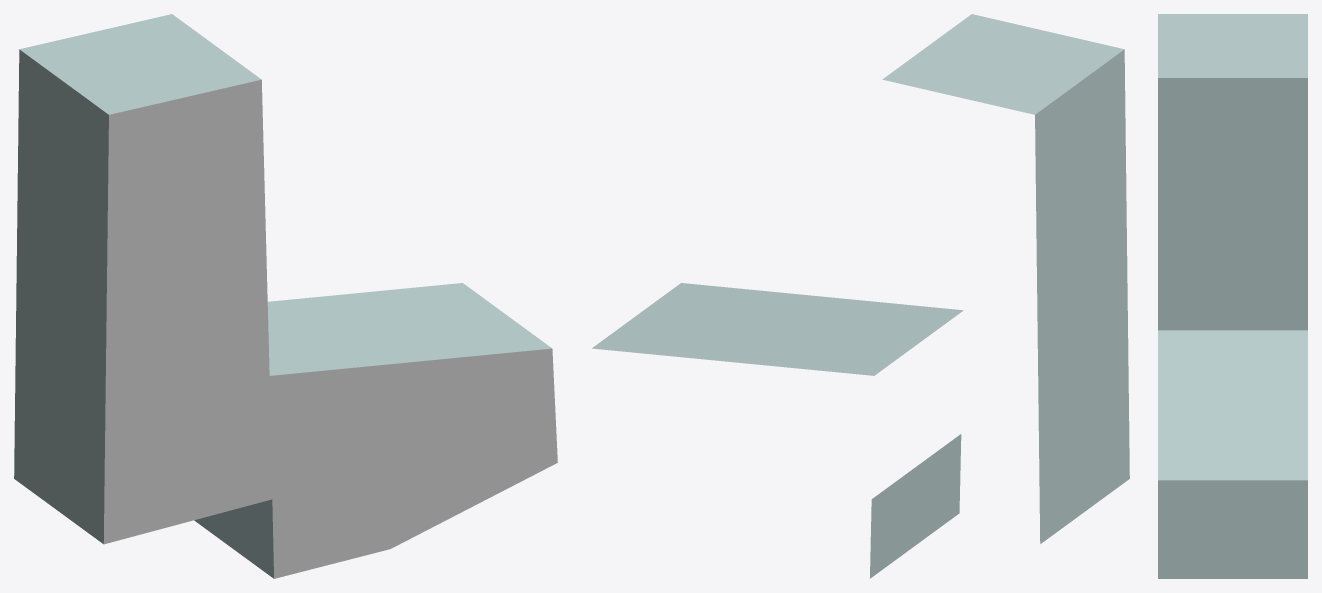
The picture shows the model from 3 angles, left to right: view 1: azimuth 30°, elevation 25°; view 2: azimuth 150°, elevation 25°; view 3: azimuth 270°, elevation 25°; orthographic projection. The views are drawn at different scales.
Parts seen in each view (by area): view 1: 0_2_1_2_3_0_2_3_2; view 2: 0_2_1_2_3_0_2_3_2; view 3: 0_2_1_2_3_0_2_3_2.
Boxes of the visible parts, x1=… form: 0_2_1_2_3_0_2_3_2: x1=14, y1=14, x2=557, y2=578; 0_2_1_2_3_0_2_3_2: x1=592, y1=14, x2=1129, y2=578; 0_2_1_2_3_0_2_3_2: x1=1158, y1=14, x2=1307, y2=578.
Size of the model in its own units: 8.77 by 9.31 by 3.
